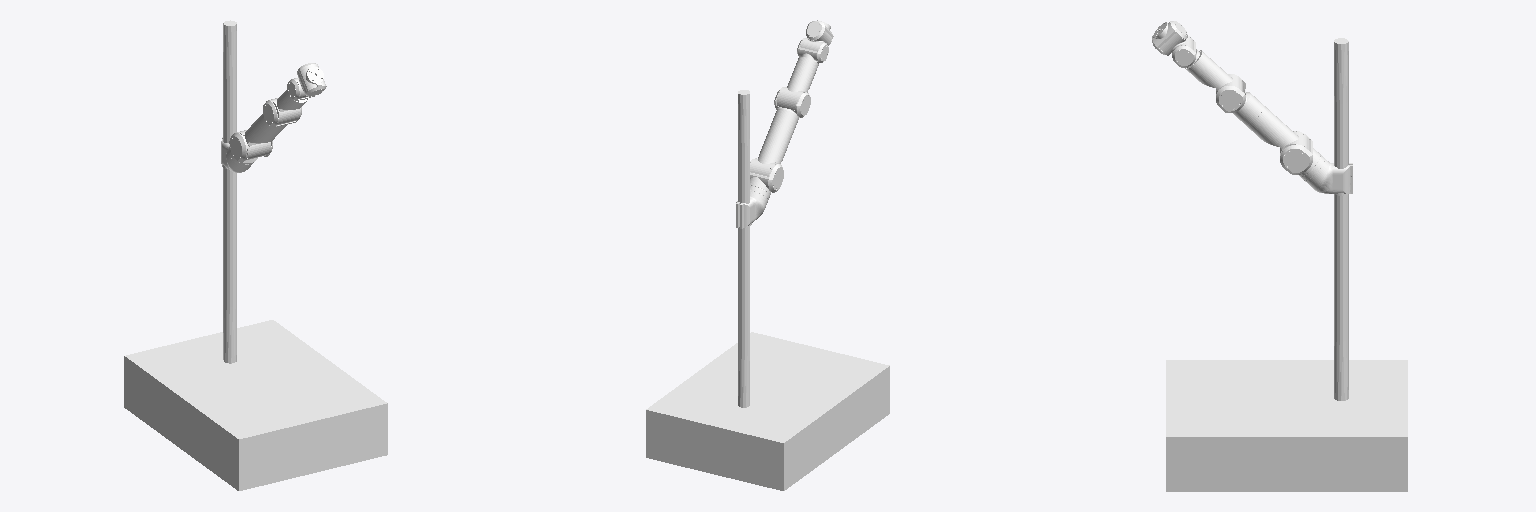
robot.urdf — converted_robot:
<?xml version="1.0" ?>
<robot name="converted_robot">
   <link name="base_link">
      <visual name="base_link">
         <origin xyz="0.03680001059547299 0.0005000000310246833 0.20700040832162359" rpy="0.0 0.0 0.0"/>
         <geometry>
            <mesh filename="converted_base_link.stl"/>
         </geometry>
         <material name="white"/>
      </visual>
      <visual name="base_link">
         <origin xyz="0.03680001059547299 0.0005000000310246833 0.20700040832162359" rpy="0.0 0.0 0.0"/>
         <geometry>
            <mesh filename="converted_base_link.stl"/>
         </geometry>
         <material name="white"/>
      </visual>
   </link>
   <link name="Link_Struct">
      <inertial>
         <origin xyz="0.036800012105279195 0.004805297261698537 0.12443914777131025" rpy="-3.1415926535897905 -1.476601935625403 -1.5707963267948992"/>
         <mass value="772.066532945213"/>
         <inertia ixx="63.619211602964405" iyy="56.030343" izz="37.632449397035614" ixy="0" ixz="0" iyz="0"/>
      </inertial>
      <visual name="Link_Struct">
         <origin xyz="0.036801555190431684 0.010706657227493727 0.15200384959616503" rpy="1.9948113964967336 1.83471788379741e-05 1.3459738331667026e-06"/>
         <geometry>
            <mesh filename="converted_Link_Struct.stl"/>
         </geometry>
         <material name="white"/>
      </visual>
   </link>
   <link name="base_link2Link_Struct_fixed">
      <inertial>
         <origin xyz="0.0 0.0 0.0" rpy="0.0 0.0 0.0"/>
         <mass value="0.001"/>
         <inertia ixx="1e-09" iyy="1e-09" izz="1e-09" ixy="0" ixz="0" iyz="0"/>
      </inertial>
   </link>
   <joint type="fixed" name="base_link2Link_Struct_fixed">
      <parent link="base_link"/>
      <child link="base_link2Link_Struct_fixed"/>
      <origin xyz="0.0 0.0 0.0" rpy="0.0 0.0 0.0"/>
   </joint>
   <joint type="fixed" name="base_link2Link_Struct_fixed_offset">
      <parent link="base_link2Link_Struct_fixed"/>
      <child link="Link_Struct"/>
      <origin xyz="-0.0 -0.0 -0.0" rpy="0.0 0.0 0.0"/>
   </joint>
   <link name="Link_Arm_0">
      <inertial>
         <origin xyz="0.0367999585688301 0.13122283143797953 1.0124836774166182" rpy="1.311140309659123 0.0 0.0"/>
         <mass value="3.7075533137806964"/>
         <inertia ixx="0.009854" iyy="0.008921114711318167" izz="0.005930885288681835" ixy="0" ixz="0" iyz="0"/>
      </inertial>
      <visual name="Link_Arm_0">
         <origin xyz="0.03679779336272892 0.13019235068088522 1.0160967681715898" rpy="-1.32909280267419 -0.0004295833265426374 3.141486751423342"/>
         <geometry>
            <mesh filename="converted_Link_Arm_0.stl"/>
         </geometry>
         <material name="white"/>
      </visual>
      <visual name="Link_Arm_0">
         <origin xyz="0.03679779336272892 0.13019235068088522 1.0160967681715898" rpy="-1.32909280267419 -0.0004295833265426374 3.141486751423342"/>
         <geometry>
            <mesh filename="converted_Link_Arm_0.stl"/>
         </geometry>
         <material name="white"/>
      </visual>
   </link>
   <link name="Link_Struct2Link_Arm_0_fixed">
      <inertial>
         <origin xyz="0.0 0.0 0.0" rpy="0.0 0.0 0.0"/>
         <mass value="0.001"/>
         <inertia ixx="1e-09" iyy="1e-09" izz="1e-09" ixy="0" ixz="0" iyz="0"/>
      </inertial>
   </link>
   <joint type="fixed" name="Link_Struct2Link_Arm_0_fixed">
      <parent link="Link_Struct"/>
      <child link="Link_Struct2Link_Arm_0_fixed"/>
      <origin xyz="0.0 0.0 0.0" rpy="0.0 0.0 0.0"/>
   </joint>
   <joint type="fixed" name="Link_Struct2Link_Arm_0_fixed_offset">
      <parent link="Link_Struct2Link_Arm_0_fixed"/>
      <child link="Link_Arm_0"/>
      <origin xyz="-0.0 -0.0 -0.0" rpy="0.0 0.0 0.0"/>
   </joint>
   <link name="Link_Arm_1">
      <inertial>
         <origin xyz="0.03504562786457818 0.053188892704513296 1.084292334934469" rpy="1.6524170956617499 -0.9039536947176359 1.569089234469058"/>
         <mass value="2.6321282966367074"/>
         <inertia ixx="0.007599795701182836" iyy="0.00698221541568411" izz="0.004803988883133062" ixy="0" ixz="0" iyz="0"/>
      </inertial>
      <visual name="Link_Arm_1">
         <origin xyz="0.03780626936007793 0.041660393052130706 1.0932807380564757" rpy="1.5910335097483406 -0.9054454978894982 1.566015334780549"/>
         <geometry>
            <mesh filename="converted_Link_Arm_1.stl"/>
         </geometry>
         <material name="white"/>
      </visual>
      <visual name="Link_Arm_1">
         <origin xyz="0.03780626936007793 0.041660393052130706 1.0932807380564757" rpy="1.5910335097483406 -0.9054454978894982 1.566015334780549"/>
         <geometry>
            <mesh filename="converted_Link_Arm_1.stl"/>
         </geometry>
         <material name="white"/>
      </visual>
   </link>
   <link name="Joint_Arm_0">
      <inertial>
         <origin xyz="0.0 0.0 0.0" rpy="0.0 0.0 0.0"/>
         <mass value="0.001"/>
         <inertia ixx="1e-09" iyy="1e-09" izz="1e-09" ixy="0" ixz="0" iyz="0"/>
      </inertial>
   </link>
   <joint type="revolute" name="Joint_Arm_0">
      <parent link="Link_Arm_0"/>
      <child link="Joint_Arm_0"/>
      <origin xyz="0.0368 0.077098 1.05493" rpy="0.0 0.0 0.0"/>
      <axis xyz="0.0 0.7071067811865476 -0.7071067811865476"/>
      <limit lower="-3.141593" upper="3.141593" effort="100" velocity="100"/>
   </joint>
   <joint type="fixed" name="Joint_Arm_0_offset">
      <parent link="Joint_Arm_0"/>
      <child link="Link_Arm_1"/>
      <origin xyz="-0.0368 -0.077098 -1.05493" rpy="0.0 0.0 0.0"/>
   </joint>
   <link name="Link_Arm_2">
      <inertial>
         <origin xyz="0.03815208787141943 -0.025302917065957473 1.1625762160782904" rpy="0.7931266472287389 -0.14584980530949032 0.10315116552744596"/>
         <mass value="5.186768659357546"/>
         <inertia ixx="0.02525947487980466" iyy="0.02507743207301386" izz="0.007622093047181453" ixy="0" ixz="0" iyz="0"/>
      </inertial>
      <visual name="Link_Arm_2">
         <origin xyz="0.037745902712131615 -0.012216583070751907 1.1460229562397648" rpy="-0.783017262066632 0.028052379503544556 -3.130788829500313"/>
         <geometry>
            <mesh filename="converted_Link_Arm_2.stl"/>
         </geometry>
         <material name="white"/>
      </visual>
      <visual name="Link_Arm_2">
         <origin xyz="0.037745902712131615 -0.012216583070751907 1.1460229562397648" rpy="-0.783017262066632 0.028052379503544556 -3.130788829500313"/>
         <geometry>
            <mesh filename="converted_Link_Arm_2.stl"/>
         </geometry>
         <material name="white"/>
      </visual>
   </link>
   <link name="Joint_Arm_1">
      <inertial>
         <origin xyz="0.0 0.0 0.0" rpy="0.0 0.0 0.0"/>
         <mass value="0.001"/>
         <inertia ixx="1e-09" iyy="1e-09" izz="1e-09" ixy="0" ixz="0" iyz="0"/>
      </inertial>
   </link>
   <joint type="revolute" name="Joint_Arm_1">
      <parent link="Link_Arm_1"/>
      <child link="Joint_Arm_1"/>
      <origin xyz="0.0368 0.027954 1.104074" rpy="0.0 0.0 0.0"/>
      <axis xyz="-1.0 0.0 0.0"/>
      <limit lower="-2.094395" upper="0.785398" effort="100" velocity="100"/>
   </joint>
   <joint type="fixed" name="Joint_Arm_1_offset">
      <parent link="Joint_Arm_1"/>
      <child link="Link_Arm_2"/>
      <origin xyz="-0.0368 -0.027954 -1.104074" rpy="0.0 0.0 0.0"/>
   </joint>
   <link name="Link_Arm_3">
      <inertial>
         <origin xyz="0.036550082867114385 -0.14785136715242098 1.2770726917426574" rpy="-0.011311048131316559 -0.8240179078769446 1.5686722769565111"/>
         <mass value="3.1082368404315335"/>
         <inertia ixx="0.009935356014464172" iyy="0.008199359446500661" izz="0.0060072845390351645" ixy="0" ixz="0" iyz="0"/>
      </inertial>
      <visual name="Link_Arm_3">
         <origin xyz="0.03630133909115862 -0.16219062675237206 1.2926655183727336" rpy="0.01433090615353505 0.7925109736617326 -1.571568413554381"/>
         <geometry>
            <mesh filename="converted_Link_Arm_3.stl"/>
         </geometry>
         <material name="white"/>
      </visual>
      <visual name="Link_Arm_3">
         <origin xyz="0.03630133909115862 -0.16219062675237206 1.2926655183727336" rpy="0.01433090615353505 0.7925109736617326 -1.571568413554381"/>
         <geometry>
            <mesh filename="converted_Link_Arm_3.stl"/>
         </geometry>
         <material name="white"/>
      </visual>
   </link>
   <link name="Joint_Arm_2">
      <inertial>
         <origin xyz="0.0 0.0 0.0" rpy="0.0 0.0 0.0"/>
         <mass value="0.001"/>
         <inertia ixx="1e-09" iyy="1e-09" izz="1e-09" ixy="0" ixz="0" iyz="0"/>
      </inertial>
   </link>
   <joint type="revolute" name="Joint_Arm_2">
      <parent link="Link_Arm_2"/>
      <child link="Joint_Arm_2"/>
      <origin xyz="0.0368 -0.106043 1.238071" rpy="0.0 0.0 0.0"/>
      <axis xyz="0.0 -0.7071067811865476 0.7071067811865476"/>
      <limit lower="-3.141593" upper="3.141593" effort="100" velocity="100"/>
   </joint>
   <joint type="fixed" name="Joint_Arm_2_offset">
      <parent link="Joint_Arm_2"/>
      <child link="Link_Arm_3"/>
      <origin xyz="-0.0368 0.106043 -1.238071" rpy="0.0 0.0 0.0"/>
   </joint>
   <link name="Link_Arm_4">
      <inertial>
         <origin xyz="0.035688861384635756 -0.22594443532878417 1.3616740537287948" rpy="-0.2602958593721475 -0.7477205101220932 1.9801322156844092"/>
         <mass value="4.936865341346778"/>
         <inertia ixx="0.02121228346776645" iyy="0.021139503518541557" izz="0.006110213013691983" ixy="0" ixz="0" iyz="0"/>
      </inertial>
      <visual name="Link_Arm_4">
         <origin xyz="0.0343944537473041 -0.22285549741815447 1.3563448787806522" rpy="0.010430067943675514 -0.7832745192942794 1.6065528816888008"/>
         <geometry>
            <mesh filename="converted_Link_Arm_4.stl"/>
         </geometry>
         <material name="white"/>
      </visual>
      <visual name="Link_Arm_4">
         <origin xyz="0.0343944537473041 -0.22285549741815447 1.3563448787806522" rpy="0.010430067943675514 -0.7832745192942794 1.6065528816888008"/>
         <geometry>
            <mesh filename="converted_Link_Arm_4.stl"/>
         </geometry>
         <material name="white"/>
      </visual>
   </link>
   <link name="Joint_Arm_3">
      <inertial>
         <origin xyz="0.0 0.0 0.0" rpy="0.0 0.0 0.0"/>
         <mass value="0.001"/>
         <inertia ixx="1e-09" iyy="1e-09" izz="1e-09" ixy="0" ixz="0" iyz="0"/>
      </inertial>
   </link>
   <joint type="revolute" name="Joint_Arm_3">
      <parent link="Link_Arm_3"/>
      <child link="Joint_Arm_3"/>
      <origin xyz="0.0368 -0.188456 1.320484" rpy="0.0 0.0 0.0"/>
      <axis xyz="1.0 0.0 0.0"/>
      <limit lower="-1.48353" upper="1.6580630000000003" effort="100" velocity="100"/>
   </joint>
   <joint type="fixed" name="Joint_Arm_3_offset">
      <parent link="Joint_Arm_3"/>
      <child link="Link_Arm_4"/>
      <origin xyz="-0.0368 0.188456 -1.320484" rpy="0.0 0.0 0.0"/>
   </joint>
   <link name="Link_Arm_5">
      <inertial>
         <origin xyz="0.033880324525557934 -0.3272356912261968 1.459262623039092" rpy="1.6527996261659608 -0.7853981633964585 1.5707963267948073"/>
         <mass value="0.9964639378275393"/>
         <inertia ixx="0.0017620000000000005" iyy="0.0016971141561264818" izz="0.0009348858438735191" ixy="0" ixz="0" iyz="0"/>
      </inertial>
      <visual name="Link_Arm_5">
         <origin xyz="0.035514984954012965 -0.33218922032844145 1.4642170162966395" rpy="1.575429661530743 0.7854033353024299 -1.57077931068163"/>
         <geometry>
            <mesh filename="converted_Link_Arm_5.stl"/>
         </geometry>
         <material name="white"/>
      </visual>
      <visual name="Link_Arm_5">
         <origin xyz="0.035514984954012965 -0.33218922032844145 1.4642170162966395" rpy="1.575429661530743 0.7854033353024299 -1.57077931068163"/>
         <geometry>
            <mesh filename="converted_Link_Arm_5.stl"/>
         </geometry>
         <material name="white"/>
      </visual>
   </link>
   <link name="Joint_Arm_4">
      <inertial>
         <origin xyz="0.0 0.0 0.0" rpy="0.0 0.0 0.0"/>
         <mass value="0.001"/>
         <inertia ixx="1e-09" iyy="1e-09" izz="1e-09" ixy="0" ixz="0" iyz="0"/>
      </inertial>
   </link>
   <joint type="revolute" name="Joint_Arm_4">
      <parent link="Link_Arm_4"/>
      <child link="Joint_Arm_4"/>
      <origin xyz="0.0368 -0.306579 1.438606" rpy="0.0 0.0 0.0"/>
      <axis xyz="0.0 -0.7071067811865476 0.7071067811865476"/>
      <limit lower="-3.141593" upper="3.141593" effort="100" velocity="100"/>
   </joint>
   <joint type="fixed" name="Joint_Arm_4_offset">
      <parent link="Joint_Arm_4"/>
      <child link="Link_Arm_5"/>
      <origin xyz="-0.0368 0.306579 -1.438606" rpy="0.0 0.0 0.0"/>
   </joint>
   <link name="Link_Arm_6">
      <inertial>
         <origin xyz="0.037485333300131936 -0.36138562086666826 1.4944460060132156" rpy="-0.6002305947843461 -0.4849730144889499 2.4946178370596823"/>
         <mass value="2.7013433794250648"/>
         <inertia ixx="0.005545117782020778" iyy="0.0055365857878590255" izz="0.00301029643012019" ixy="0" ixz="0" iyz="0"/>
      </inertial>
      <visual name="Link_Arm_6">
         <origin xyz="0.038777896040500595 -0.3604729189803143 1.4953599042446353" rpy="-0.5121017505568918 0.5329235487263477 -2.507151953022625"/>
         <geometry>
            <mesh filename="converted_Link_Arm_6.stl"/>
         </geometry>
         <material name="white"/>
      </visual>
      <visual name="Link_Arm_6">
         <origin xyz="0.038777896040500595 -0.3604729189803143 1.4953599042446353" rpy="-0.5121017505568918 0.5329235487263477 -2.507151953022625"/>
         <geometry>
            <mesh filename="converted_Link_Arm_6.stl"/>
         </geometry>
         <material name="white"/>
      </visual>
   </link>
   <link name="Joint_Arm_5">
      <inertial>
         <origin xyz="0.0 0.0 0.0" rpy="0.0 0.0 0.0"/>
         <mass value="0.001"/>
         <inertia ixx="1e-09" iyy="1e-09" izz="1e-09" ixy="0" ixz="0" iyz="0"/>
      </inertial>
   </link>
   <joint type="revolute" name="Joint_Arm_5">
      <parent link="Link_Arm_5"/>
      <child link="Joint_Arm_5"/>
      <origin xyz="0.0368 -0.340689 1.472717" rpy="0.0 0.0 0.0"/>
      <axis xyz="1.0 0.0 0.0"/>
      <limit lower="-0.872665" upper="0.872665" effort="100" velocity="100"/>
   </joint>
   <joint type="fixed" name="Joint_Arm_5_offset">
      <parent link="Joint_Arm_5"/>
      <child link="Link_Arm_6"/>
      <origin xyz="-0.0368 0.340689 -1.472717" rpy="0.0 0.0 0.0"/>
   </joint>
   <link name="Link_Arm_7">
      <inertial>
         <origin xyz="0.03675460348087512 -0.3986027227635575 1.5265650968727484" rpy="-0.7023926044434486 0.0 0.0"/>
         <mass value="0.996469869623849"/>
         <inertia ixx="0.001763" iyy="0.0016972413933454757" izz="0.0009347586066545239" ixy="0" ixz="0" iyz="0"/>
      </inertial>
      <visual name="Link_Arm_7">
         <origin xyz="0.03675502405644682 -0.39249281672276665 1.5227669325543072" rpy="-2.351573189228031 -1.2162560587114513e-05 3.141587801893119"/>
         <geometry>
            <mesh filename="converted_Link_Arm_7.stl"/>
         </geometry>
         <material name="white"/>
      </visual>
   </link>
   <link name="Joint_Arm_6">
      <inertial>
         <origin xyz="0.0 0.0 0.0" rpy="0.0 0.0 0.0"/>
         <mass value="0.001"/>
         <inertia ixx="1e-09" iyy="1e-09" izz="1e-09" ixy="0" ixz="0" iyz="0"/>
      </inertial>
   </link>
   <joint type="revolute" name="Joint_Arm_6">
      <parent link="Link_Arm_6"/>
      <child link="Joint_Arm_6"/>
      <origin xyz="0.036755 -0.383084 1.515175" rpy="0.0 0.0 0.0"/>
      <axis xyz="0.0 -0.7071067811865476 -0.7071067811865476"/>
      <limit lower="-0.872665" upper="0.872665" effort="100" velocity="100"/>
   </joint>
   <joint type="fixed" name="Joint_Arm_6_offset">
      <parent link="Joint_Arm_6"/>
      <child link="Link_Arm_7"/>
      <origin xyz="-0.036755 0.383084 -1.515175" rpy="0.0 0.0 0.0"/>
   </joint>
   <link name="Link_EE">
      <inertial>
         <origin xyz="0.0 0.0 0.0" rpy="0.0 0.0 0.0"/>
         <mass value="1.0"/>
         <inertia ixx="1.0" iyy="1.0" izz="1.0" ixy="0" ixz="0" iyz="0"/>
      </inertial>
   </link>
   <link name="Link_Arm_72Link_EE_fixed">
      <inertial>
         <origin xyz="0.0 0.0 0.0" rpy="0.0 0.0 0.0"/>
         <mass value="0.001"/>
         <inertia ixx="1e-09" iyy="1e-09" izz="1e-09" ixy="0" ixz="0" iyz="0"/>
      </inertial>
   </link>
   <joint type="fixed" name="Link_Arm_72Link_EE_fixed">
      <parent link="Link_Arm_7"/>
      <child link="Link_Arm_72Link_EE_fixed"/>
      <origin xyz="0.03675460348087512 -0.46795 1.599286" rpy="1.9984014443252818e-15 0.7491148601897941 1.570796326794902"/>
   </joint>
   <joint type="fixed" name="Link_Arm_72Link_EE_fixed_offset">
      <parent link="Link_Arm_72Link_EE_fixed"/>
      <child link="Link_EE"/>
      <origin xyz="-0.0 -0.0 -0.0" rpy="0.0 0.0 0.0"/>
   </joint>
   <material name="white">
      <color rgba="1 1 1 1"/>
   </material>
</robot>

--- Facts derived from the render (not from the file) ---
The picture shows the robot from 3 angles, left to right: view 1: azimuth 30°, elevation 25°; view 2: azimuth 150°, elevation 25°; view 3: azimuth 270°, elevation 25°; orthographic projection.
Model converted_robot with 21 links and 20 joints (7 revolute, 13 fixed), rooted at base_link, posed all joints at 0.
Links seen in each view (by area): view 1: Link_Struct, Link_Arm_2, Link_Arm_4, Link_Arm_7, Link_Arm_3; view 2: Link_Struct, Link_Arm_2, Link_Arm_4, Link_Arm_0, Link_Arm_3, Link_Arm_1; view 3: Link_Struct, Link_Arm_0, Link_Arm_2, Link_Arm_3, Link_Arm_4, Link_Arm_1, Link_Arm_7.
Boxes of the visible links, x1,y1,x2,y2 form: Link_Struct: (124, 20, 387, 490); Link_Arm_2: (239, 117, 277, 160); Link_Arm_4: (271, 89, 308, 125); Link_Arm_7: (297, 63, 326, 96); Link_Arm_3: (259, 100, 301, 134); Link_Struct: (646, 90, 889, 490); Link_Arm_2: (750, 124, 792, 176); Link_Arm_4: (777, 57, 818, 110); Link_Arm_0: (736, 185, 769, 228); Link_Arm_3: (771, 87, 810, 132); Link_Arm_1: (750, 159, 783, 194); Link_Struct: (1166, 38, 1407, 491); Link_Arm_0: (1301, 154, 1352, 195); Link_Arm_2: (1246, 106, 1309, 155); Link_Arm_3: (1216, 74, 1263, 124); Link_Arm_4: (1185, 50, 1243, 92); Link_Arm_1: (1280, 131, 1320, 176); Link_Arm_7: (1152, 21, 1187, 55).
Bounding box of the posed robot: 0.6 × 0.8449 × 1.57 m (x, y, z).
Meshes: 10 distinct files referenced, 18 mesh visuals loaded (10 binary STL).